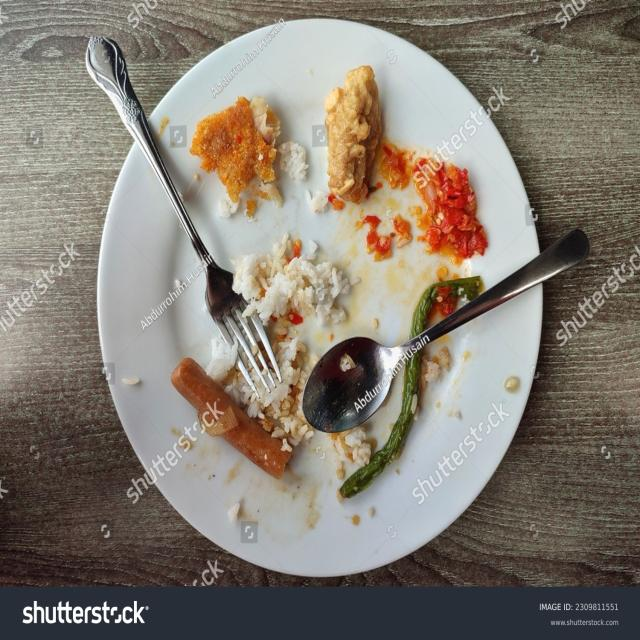Fish: (325, 66, 382, 203)
Green veg: (340, 352, 421, 496), (411, 283, 440, 334), (451, 281, 474, 295)
Pork: (171, 357, 291, 478)
Rice: (206, 234, 358, 450), (250, 96, 308, 180)
